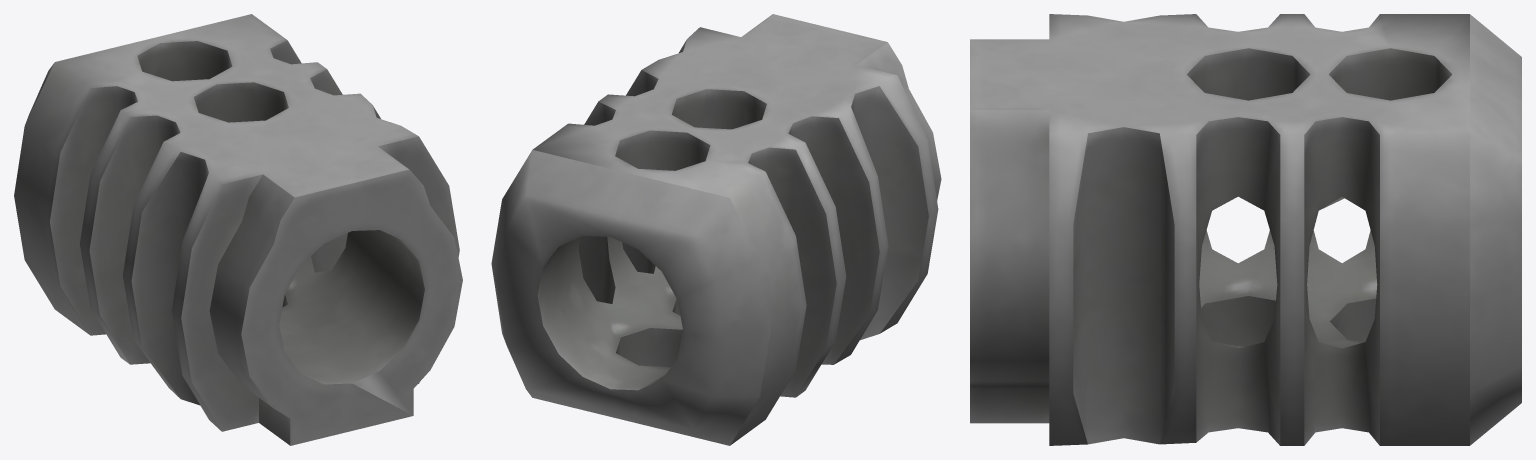
Rendered from IG_Acc_Muzzle_PST_REC_1.fbx.
3 views of the same model, side by side, from view 1: azimuth 30°, elevation 25°; view 2: azimuth 150°, elevation 25°; view 3: azimuth 270°, elevation 25° (orthographic). The views are drawn at different scales.
Parts seen in each view (by area): view 1: Muzzle_PST_REC_1; view 2: Muzzle_PST_REC_1; view 3: Muzzle_PST_REC_1.
Boxes of the visible parts, <box> form: Muzzle_PST_REC_1: <box>14,14,462,445</box>; Muzzle_PST_REC_1: <box>491,14,941,445</box>; Muzzle_PST_REC_1: <box>970,14,1521,445</box>.
Bounding box in the file's own units: 0.0917 × 0.0778 × 0.125.
